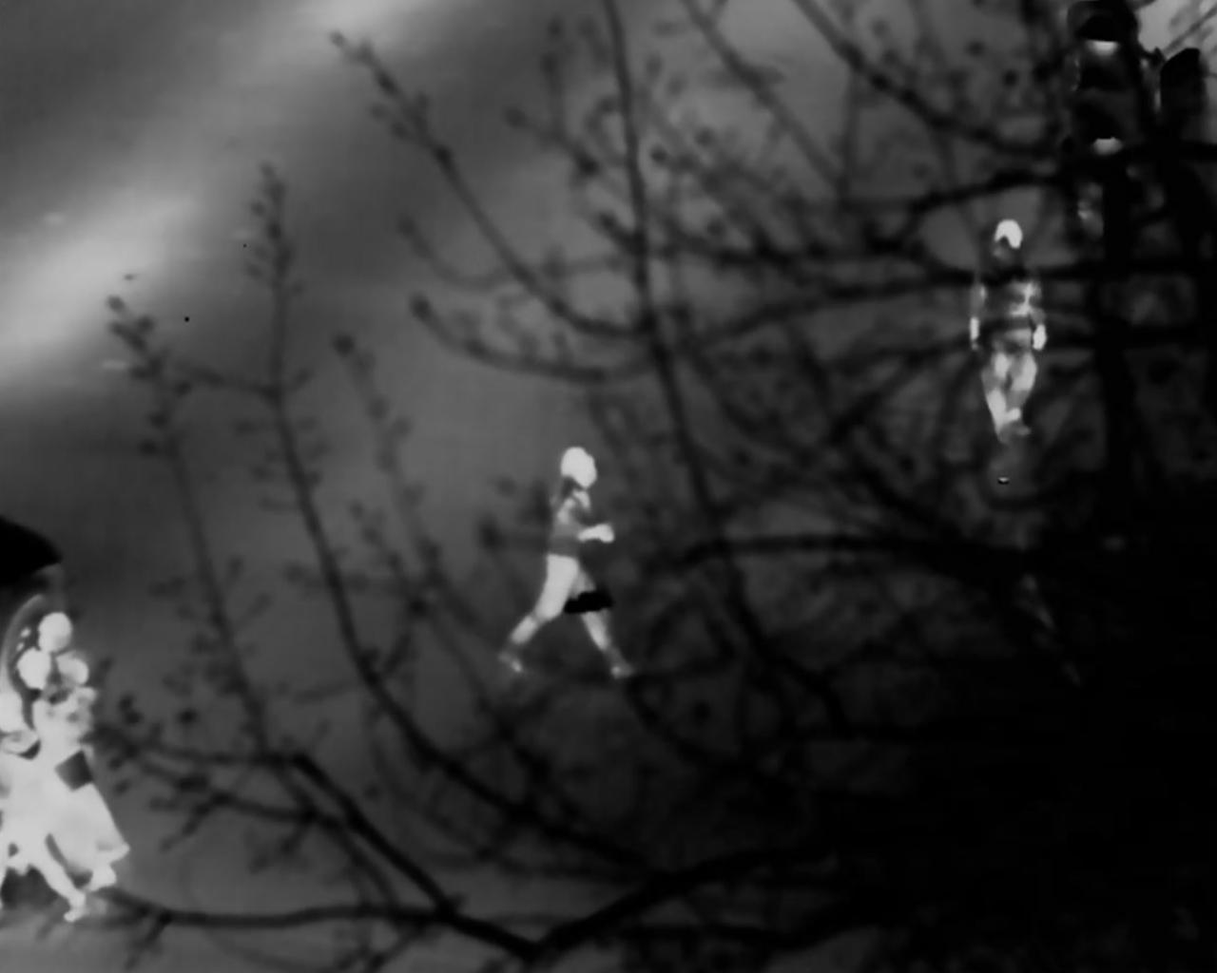person: (9, 609, 132, 865), (517, 447, 642, 673), (13, 650, 113, 891), (968, 211, 1039, 463)
